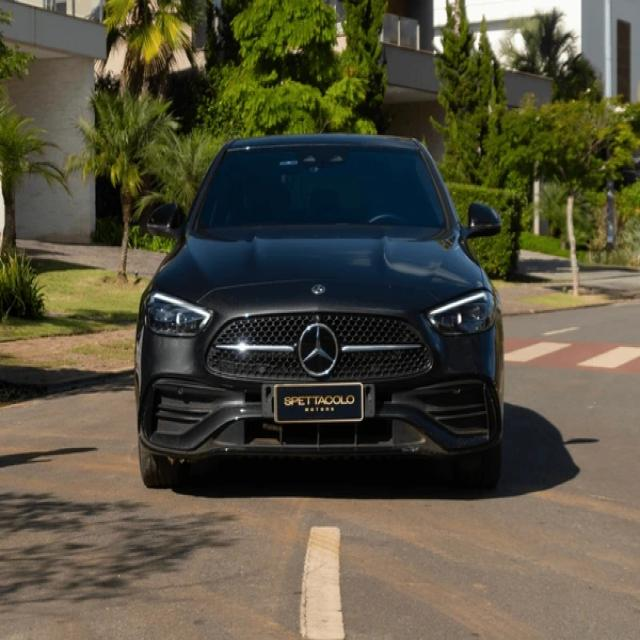mercedes: (298, 321, 341, 380)
